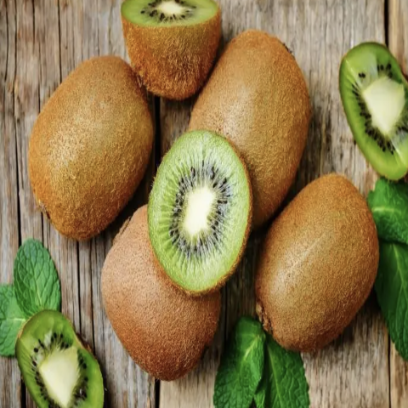kiwi: (176, 16, 314, 236), (20, 56, 171, 248), (89, 178, 228, 384), (254, 164, 392, 369)
